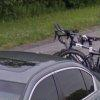Bicycle: (45, 14, 100, 72)
